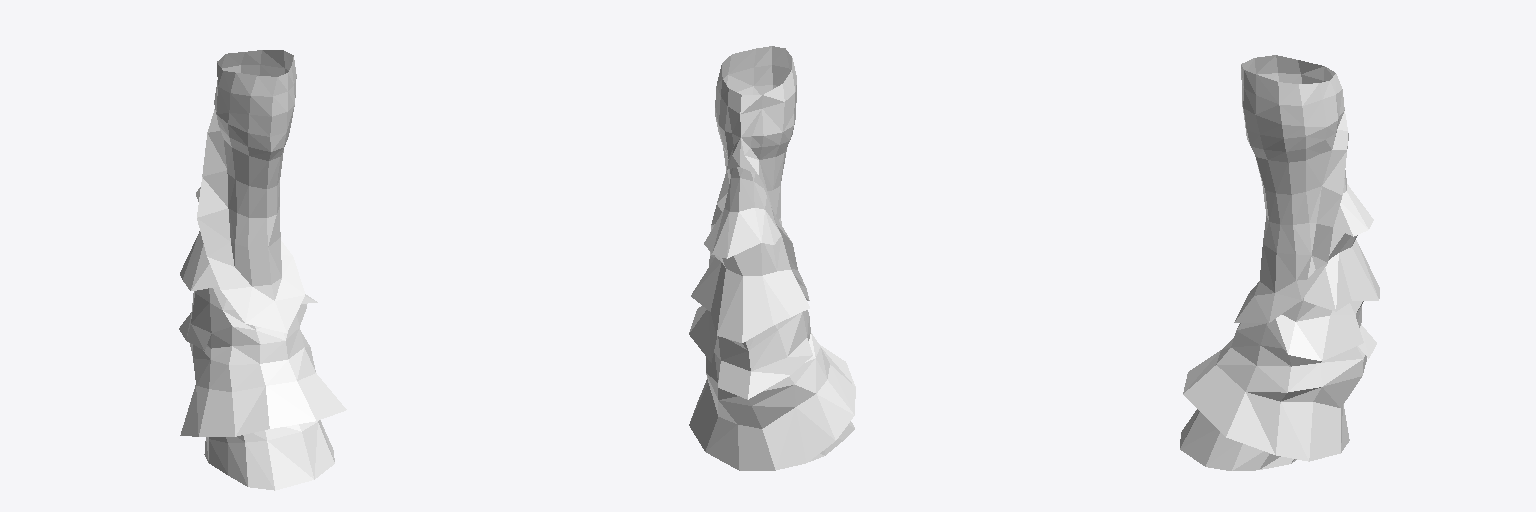
Rendered from leg_front_lower_left.obj.
3 renders of one model, left to right at view 1: azimuth 30°, elevation 25°; view 2: azimuth 150°, elevation 25°; view 3: azimuth 270°, elevation 25°, orthographic.
Visible parts, largest first — view 1: horse; view 2: horse; view 3: horse.
Part boxes in pixels (x1,y1,x2,y2): horse: (179, 50, 346, 490); horse: (689, 46, 855, 470); horse: (1180, 55, 1379, 470).
Bounding box in the file's own units: 10.84 × 27.75 × 13.05.